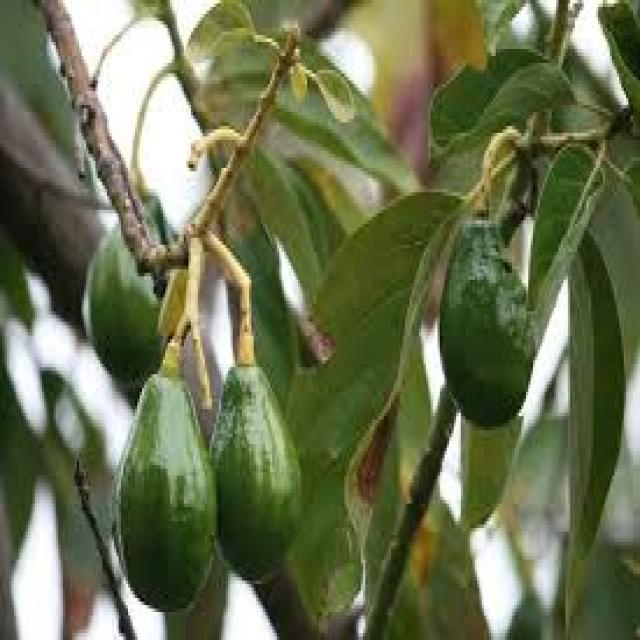avocado: (206, 357, 334, 612), (428, 198, 552, 452), (123, 353, 231, 640), (87, 185, 178, 378)
